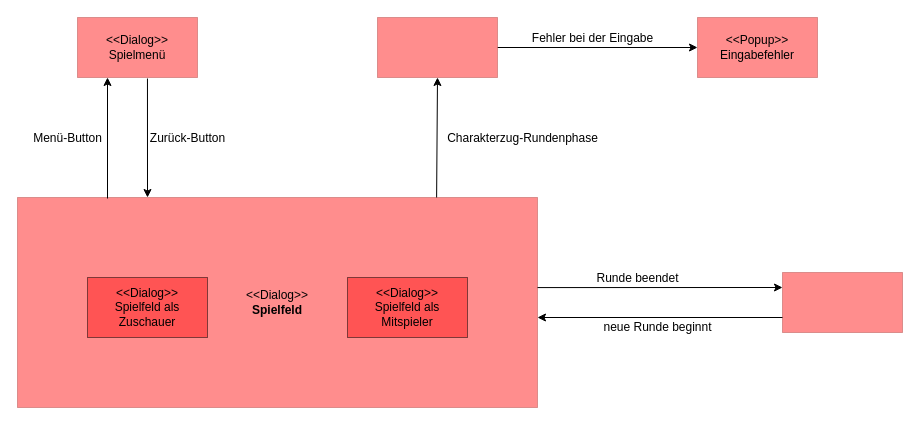
Some shapes in this 920 by 425 pixel diagram are drawn without their labels. Here are the shapes that lost their labels. From the top down, the centre of each, then its label:
At [437,47]: "<<Dialog>> Charakterzug".
At [842,302]: "<<Dialog>> Rundenstatistik".
